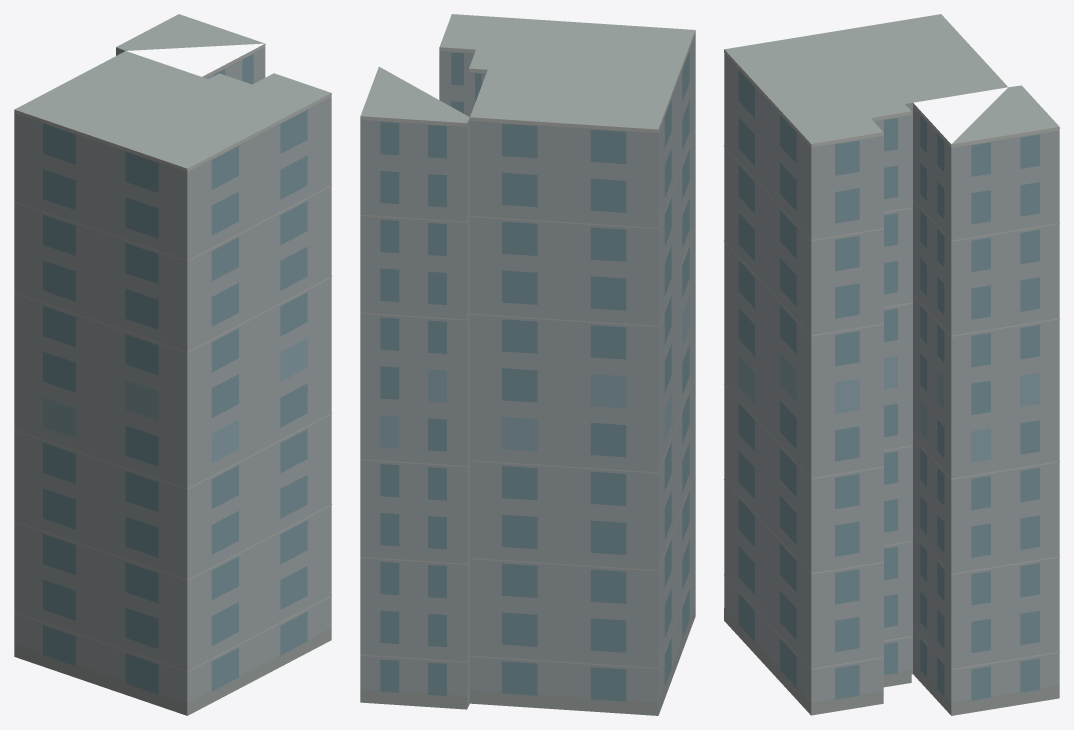
Rendered from survey-upis-32837053.glb.
The picture shows the model from 3 angles, left to right: view 1: azimuth 30°, elevation 25°; view 2: azimuth 150°, elevation 25°; view 3: azimuth 270°, elevation 25°; orthographic projection. The views are drawn at different scales.
Visible parts, largest first — view 1: survey-upis-32837053.tmp; view 2: survey-upis-32837053.tmp; view 3: survey-upis-32837053.tmp.
Boxes of the visible parts, x1,y1,x2,y2 form: survey-upis-32837053.tmp: (14, 14, 331, 715); survey-upis-32837053.tmp: (360, 14, 695, 715); survey-upis-32837053.tmp: (724, 14, 1059, 715).
Bounding box in the file's own units: 19.46 × 39.7 × 21.15.
